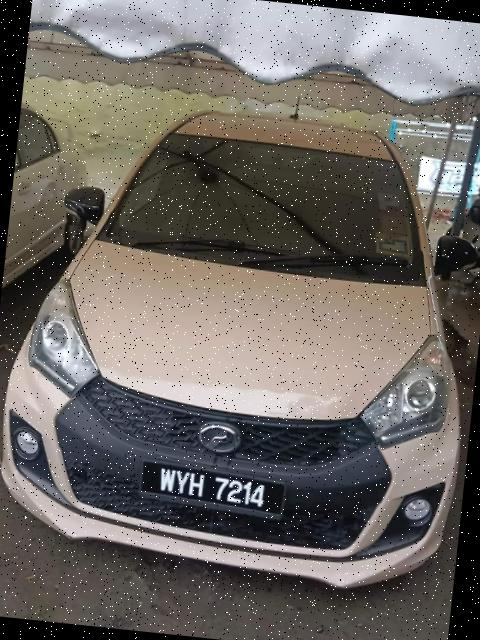License_Plate: (139, 459, 284, 524)
car: (1, 83, 480, 596)
